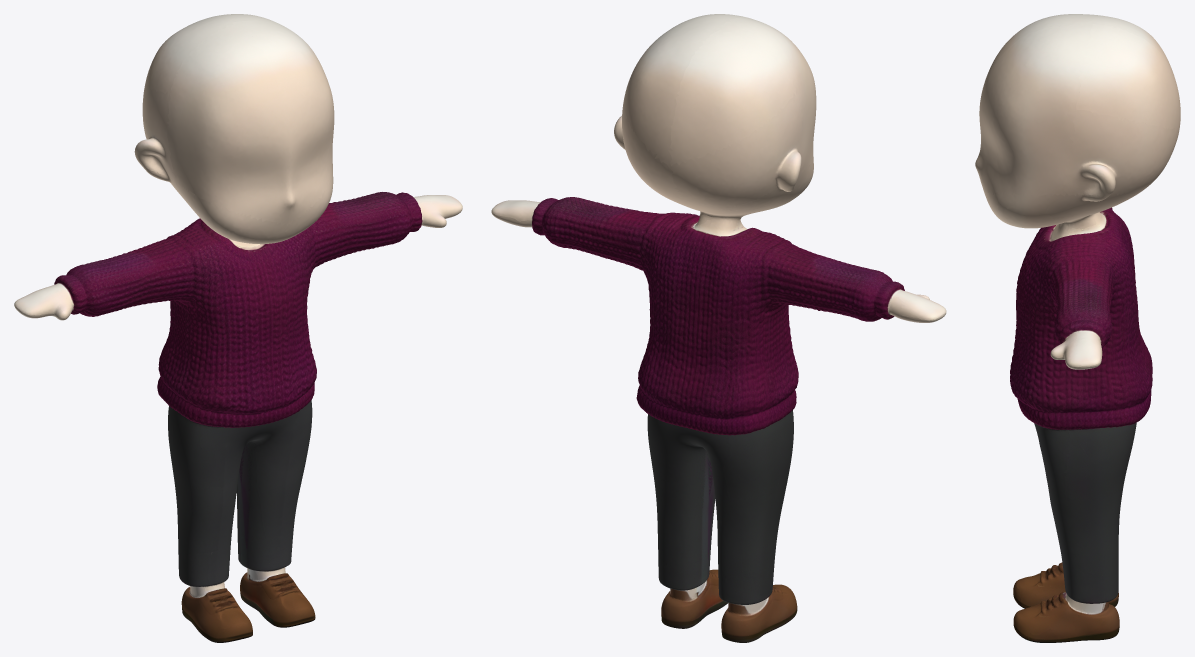
The model's file is baked_noutfit_sweater.glb.
3 renders of one model, left to right at view 1: azimuth 30°, elevation 25°; view 2: azimuth 150°, elevation 25°; view 3: azimuth 270°, elevation 25°, orthographic.
Size of the model in its own units: 1.49 by 1.9 by 0.5959.
1 material, 1 textured.
